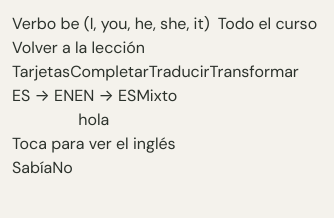
Test: StudyPracticeDesk › swaps traducir stimulus and prompt when the direction changes
Click the button "Traducir" at (179,72), box [149,60,210,84]
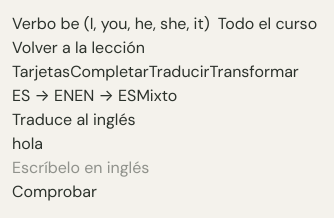
Check: the text "hola" is shown, box [12,133,43,154]
Check: the text "Traduce al inglés" is shown, box [12,109,136,130]
Click the button "EN → ES" at (105,96), box [74,84,136,108]
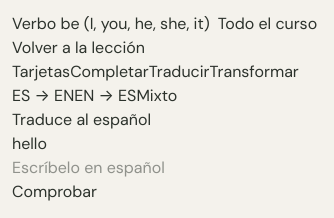
Check: the text "Traduce al español" is shown, box [12,109,151,130]
Check: the text "hello" is shown, box [12,133,47,154]
